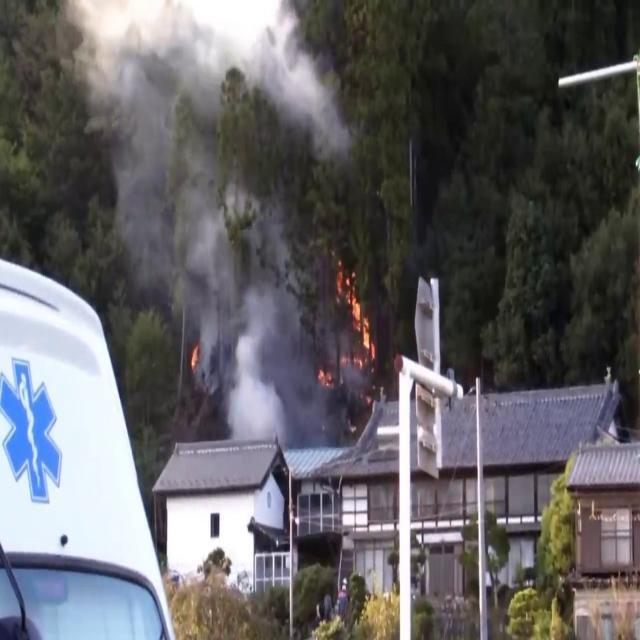Fire: (338, 264, 376, 378)
Smoke: (81, 0, 351, 445)
